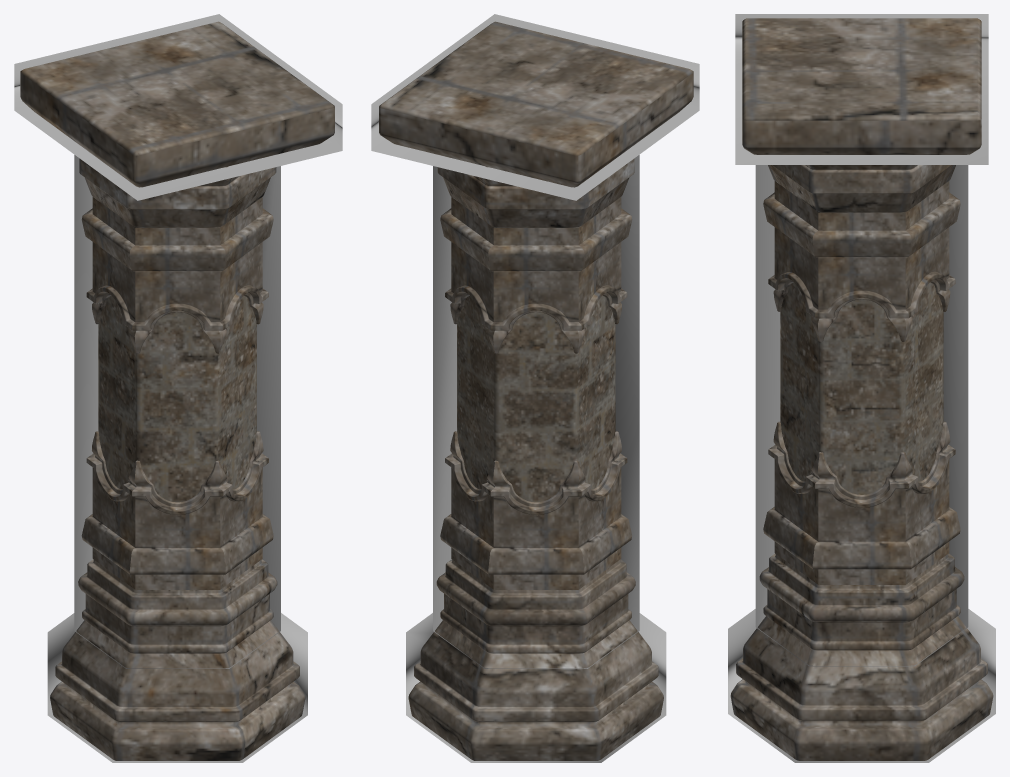
The model's file is SM_Pillar_02a.gltf.
The picture shows the model from 3 angles, left to right: view 1: azimuth 30°, elevation 25°; view 2: azimuth 150°, elevation 25°; view 3: azimuth 270°, elevation 25°; orthographic projection. The views are drawn at different scales.
Parts seen in each view (by area): view 1: SM_Pillar_02a, SM_Pillar_02a_ConvexHulls; view 2: SM_Pillar_02a, SM_Pillar_02a_ConvexHulls; view 3: SM_Pillar_02a, SM_Pillar_02a_ConvexHulls.
Boxes of the visible parts, bbox=[...] form: SM_Pillar_02a: bbox=[20, 21, 334, 760]; SM_Pillar_02a_ConvexHulls: bbox=[14, 14, 342, 762]; SM_Pillar_02a: bbox=[379, 21, 693, 760]; SM_Pillar_02a_ConvexHulls: bbox=[371, 14, 699, 762]; SM_Pillar_02a: bbox=[730, 18, 993, 760]; SM_Pillar_02a_ConvexHulls: bbox=[728, 14, 995, 762].
Bounding box in the file's own units: 1.57 × 4.63 × 1.73.
3 materials, 2 textured.
